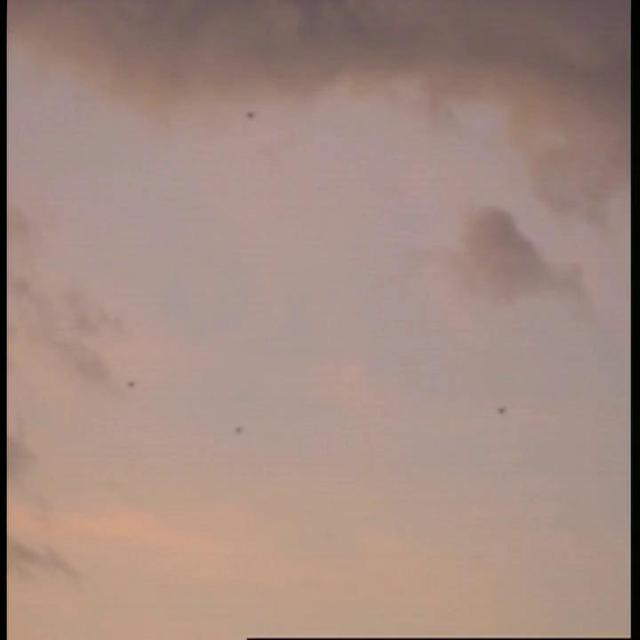drone: (489, 399, 512, 421), (229, 421, 249, 442), (242, 106, 262, 124), (121, 378, 142, 394)
